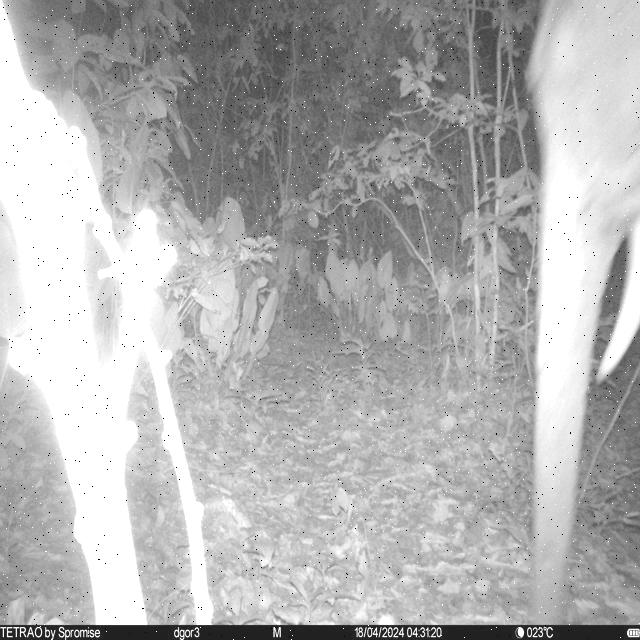elephant: (525, 0, 640, 624)
tusk: (596, 223, 640, 387), (535, 210, 576, 380)
